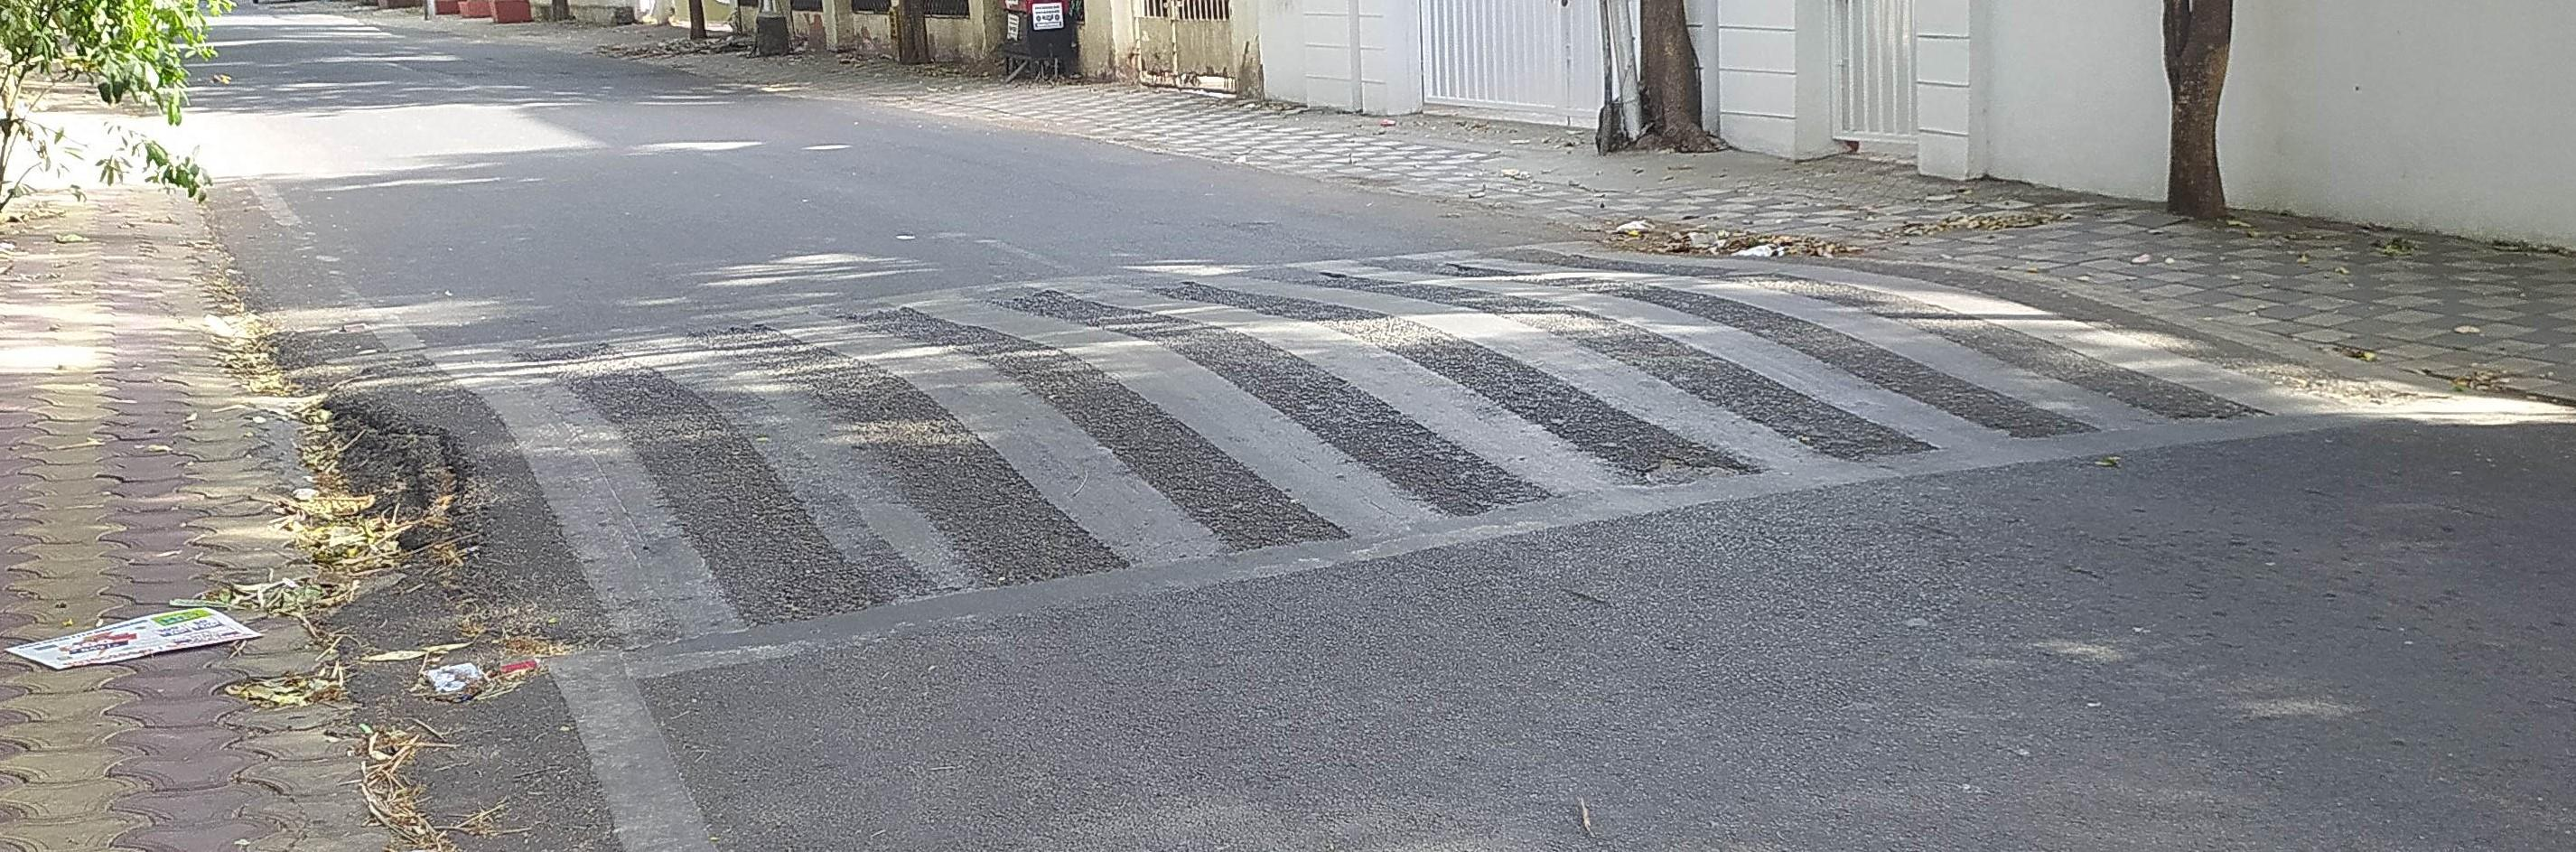speed-bump: (346, 233, 2486, 631)
